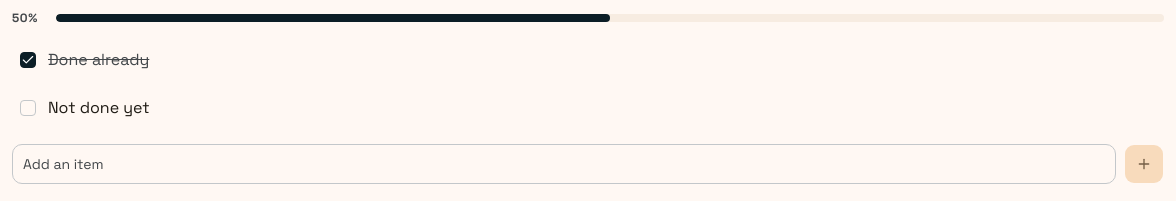
Checklist › computes progress from completed items and toggles items on click
Click the checkbox named "Not done yet" next to "Not done yet" at {"x": 28, "y": 108}, box x1=20 y1=100 x2=36 y2=116
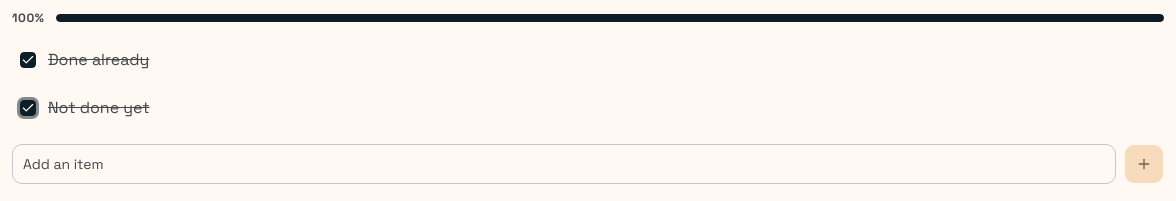
Now the text "100%" is shown, box x1=12 y1=12 x2=44 y2=24
